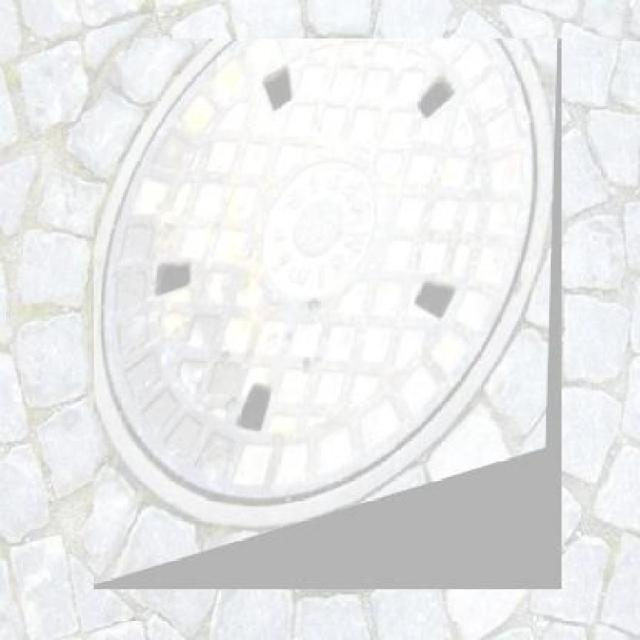Manhole: (94, 38, 562, 590)
